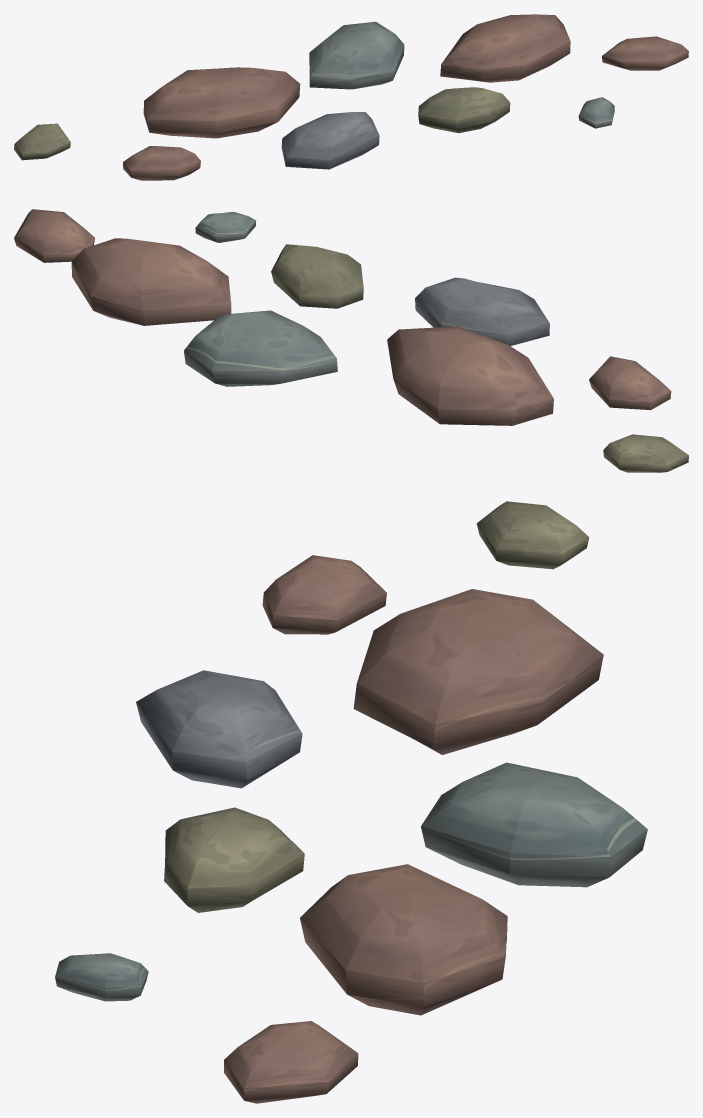
Rendered from SM_ForestWater_RoseGravel.fbx.
3 renders of one model, top to bottom at view 1: azimuth 30°, elevation 25°; view 2: azimuth 150°, elevation 25°; view 3: azimuth 270°, elevation 25°, orthographic. The views are drawn at different scales.
Parts seen in each view (by area): view 1: SM_ForestWater_RoseGravel; view 2: SM_ForestWater_RoseGravel; view 3: SM_ForestWater_RoseGravel.
Part boxes in pixels (x1,y1,x2,y2): SM_ForestWater_RoseGravel: [14, 14, 688, 180]; SM_ForestWater_RoseGravel: [14, 209, 688, 472]; SM_ForestWater_RoseGravel: [55, 501, 647, 1103].
Size of the model in its own units: 45.68 by 19.45 by 3.57.
1 material, 1 textured.
